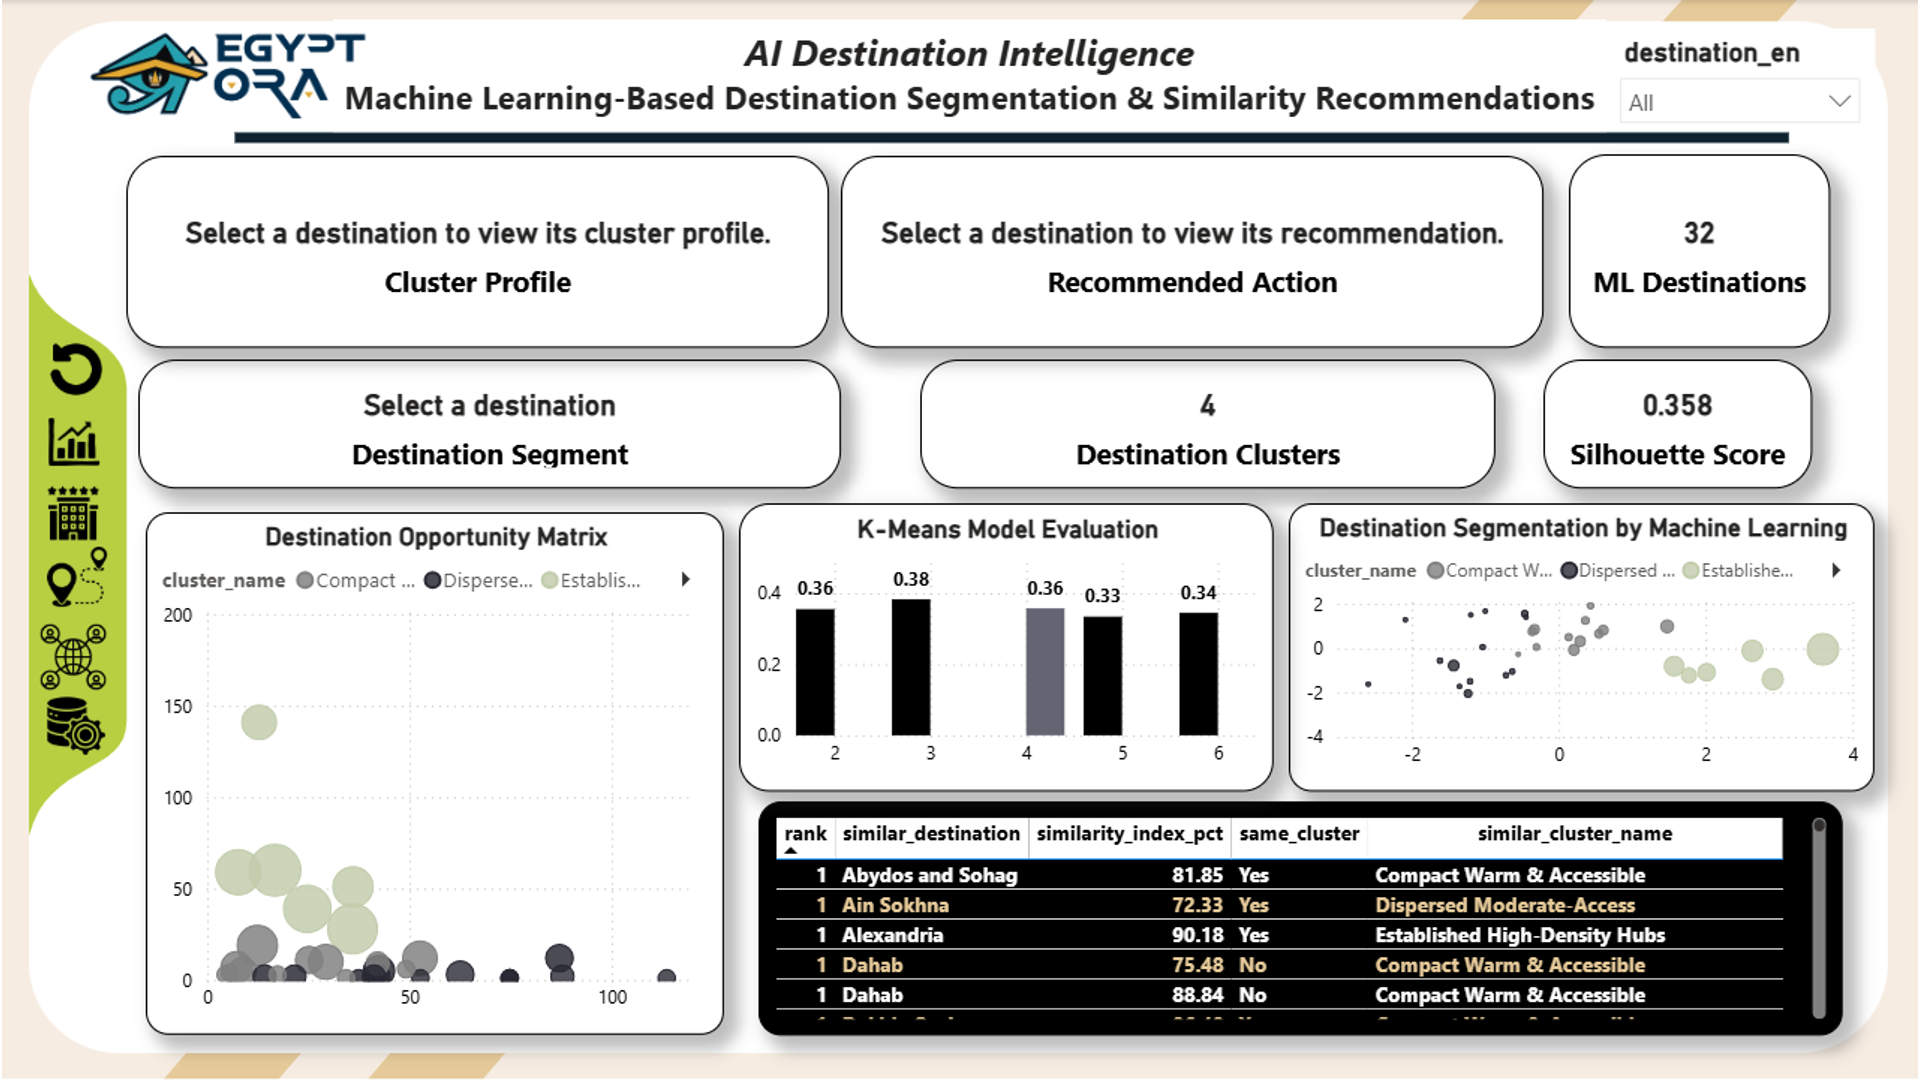

The dashboard page shown, as its layout file describes it:
{"tool":"powerbi","page":{"name":"AI Destination Intelligence","canvas":[1280,720],"ordinal":6},"visuals":[{"type":"textbox","box":[223.4,13.3,847.7,75.4],"z":0},{"type":"card","title":"Latest International Arrivals","fields":{"Values":["_Key Measures (1).ML Destinations"]},"box":[1046.3,102.9,173.8,129.5],"z":1000},{"type":"card","title":"Latest International Arrivals","fields":{"Values":["_Key Measures (1).Number of Clusters"]},"box":[615,239.4,383,86.2],"z":2000},{"type":"card","title":"Latest International Arrivals","fields":{"Values":["_Key Measures (1).Selected Silhouette Score"]},"box":[1030,239.4,178.8,86.2],"z":3000},{"type":"scatterChart","title":"Destination Segmentation by Machine Learning","fields":{"Category":["ML_Destinations.destination"],"Series":["ML_Destinations.cluster_name"],"Size":["Sum(ML_Destinations.linked_attractions)"],"X":["ML_Destinations.pca1"],"Y":["ML_Destinations.pca2"]},"box":[859.7,335.2,390.5,191.5],"z":4000},{"type":"scatterChart","title":"Destination Opportunity Matrix","fields":{"Category":["ML_Destinations.destination"],"Series":["ML_Destinations.cluster_name"],"Size":["Sum(ML_Destinations.category_diversity)"],"X":["Avg(ML_Destinations.avg_airport_distance_km)"],"Y":["Avg(ML_Destinations.linked_attractions)"]},"box":[99,341.5,385.2,347.9],"z":5000},{"type":"tableEx","fields":{"Values":["ML_Similar.rank","ML_Similar.similar_destination","ML_Similar.similarity_index_pct","ML_Similar.same_cluster","ML_Similar.similar_cluster_name"]},"box":[506.5,534.1,722.5,156.4],"z":6000},{"type":"card","title":"Latest International Arrivals","fields":{"Values":["ML_Destinations.Selected Cluster"]},"box":[93.6,239.4,468.2,86.2],"z":7000},{"type":"card","title":"Latest International Arrivals","fields":{"Values":["ML_Destinations.Selected Cluster Description"]},"box":[86,103.7,468.2,127.7],"z":8000},{"type":"card","title":"Latest International Arrivals","fields":{"Values":["ML_Destinations.Selected Recommendation"]},"box":[562.2,103.7,468.2,127.7],"z":9000},{"type":"clusteredColumnChart","title":"K-Means Model Evaluation","fields":{"Category":["ML_Model_Evaluation.K"],"Series":["ML_Model_Evaluation.Selected_Model"],"Y":["Avg(ML_Model_Evaluation.Silhouette_Score)"]},"box":[493.7,335.2,356.4,191.5],"z":10000},{"type":"image","box":[14.2,0,273.1,96.7],"z":11000},{"type":"image","box":[22.7,272.5,55.8,43.5],"z":12000},{"type":"image","box":[22.7,316,55.8,51.1],"z":13000},{"type":"image","box":[22.7,409.6,55.8,54.9],"z":14000},{"type":"image","box":[22.7,359.5,60.5,50.1],"z":15000},{"type":"image","box":[24.6,457.9,55.8,51.1],"z":16000},{"type":"image","box":[18.6,220.8,67.4,51.4],"z":17000},{"type":"slicer","fields":{"Values":["Destinations.destination_en"]},"box":[1070.4,19.2,179.8,63.8],"z":18000}]}

Visuals, with their boxes in screenshot pixels (x1, y1, x2, y2), scaled from the page's 1280x720 canvas onto the 1920x1080 screenshot:
textbox: pyautogui.locateOnScreen(335, 20, 1607, 133)
"Latest International Arrivals" card: pyautogui.locateOnScreen(1569, 154, 1830, 349)
"Latest International Arrivals" card: pyautogui.locateOnScreen(922, 359, 1497, 488)
"Latest International Arrivals" card: pyautogui.locateOnScreen(1545, 359, 1813, 488)
"Destination Segmentation by Machine Learning" scatterChart: pyautogui.locateOnScreen(1290, 503, 1875, 790)
"Destination Opportunity Matrix" scatterChart: pyautogui.locateOnScreen(148, 512, 726, 1034)
tableEx - ML_Similar.rank x ML_Similar.similar_destination: pyautogui.locateOnScreen(760, 801, 1844, 1036)
"Latest International Arrivals" card: pyautogui.locateOnScreen(140, 359, 843, 488)
"Latest International Arrivals" card: pyautogui.locateOnScreen(129, 156, 831, 347)
"Latest International Arrivals" card: pyautogui.locateOnScreen(843, 156, 1546, 347)
"K-Means Model Evaluation" clusteredColumnChart: pyautogui.locateOnScreen(741, 503, 1275, 790)
image: pyautogui.locateOnScreen(21, 0, 431, 145)
image: pyautogui.locateOnScreen(34, 409, 118, 474)
image: pyautogui.locateOnScreen(34, 474, 118, 551)
image: pyautogui.locateOnScreen(34, 614, 118, 697)
image: pyautogui.locateOnScreen(34, 539, 125, 614)
image: pyautogui.locateOnScreen(37, 687, 121, 764)
image: pyautogui.locateOnScreen(28, 331, 129, 408)
slicer - Destinations.destination_en: pyautogui.locateOnScreen(1606, 29, 1875, 124)
